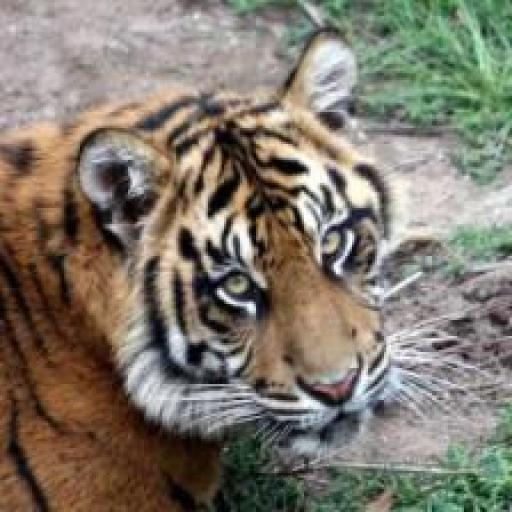Tiger: (11, 20, 431, 512)
